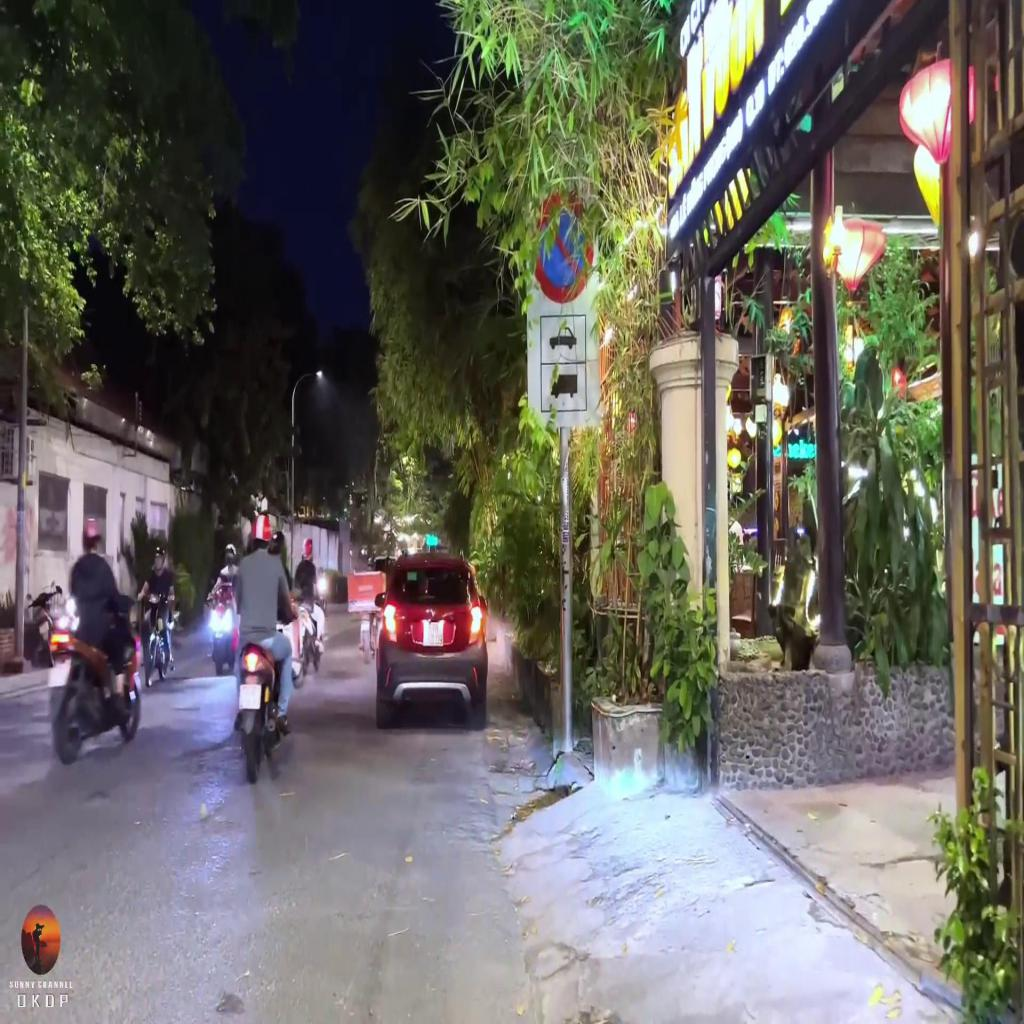cam_do_xe: (532, 190, 593, 304)
khac: (540, 315, 586, 365), (541, 364, 586, 411)
